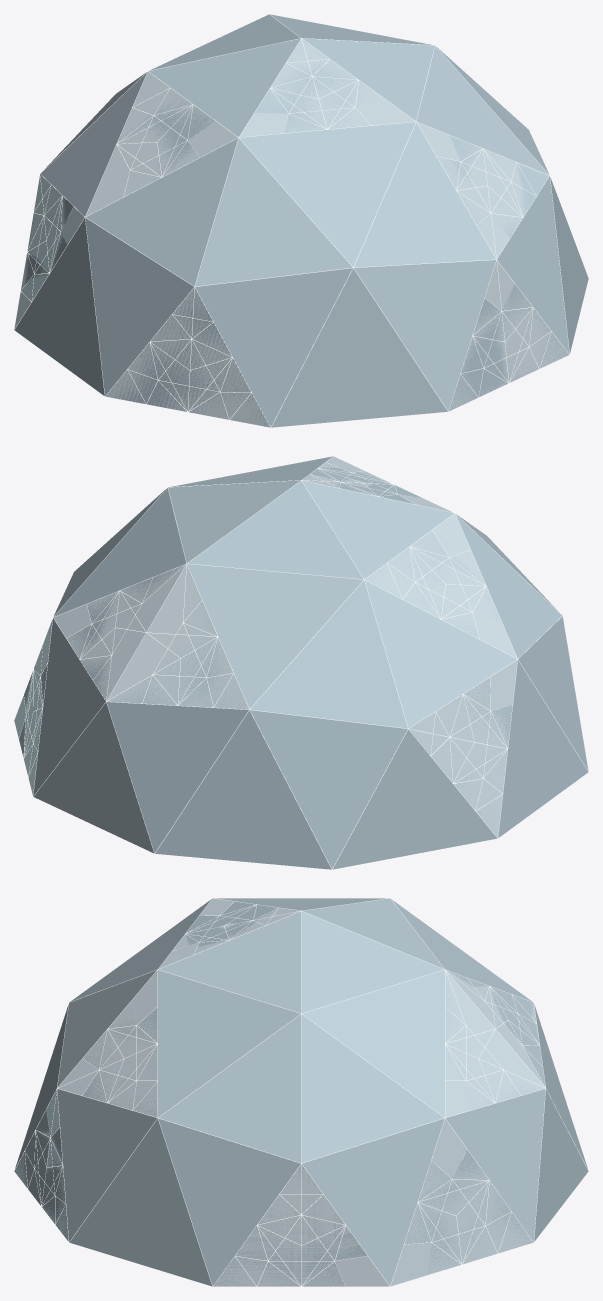
The model's file is domefbx.fbx.
The picture shows the model from 3 angles, top to bottom: view 1: azimuth 30°, elevation 25°; view 2: azimuth 150°, elevation 25°; view 3: azimuth 270°, elevation 25°; orthographic projection. The views are drawn at different scales.
Parts seen in each view (by area): view 1: Icosphere; view 2: Icosphere; view 3: Icosphere.
Boxes of the visible parts, x1,y1,x2,y2 form: Icosphere: [14, 14, 588, 427]; Icosphere: [14, 456, 588, 869]; Icosphere: [14, 898, 588, 1286].
Size of the model in its own units: 76133 by 40033 by 80048.
